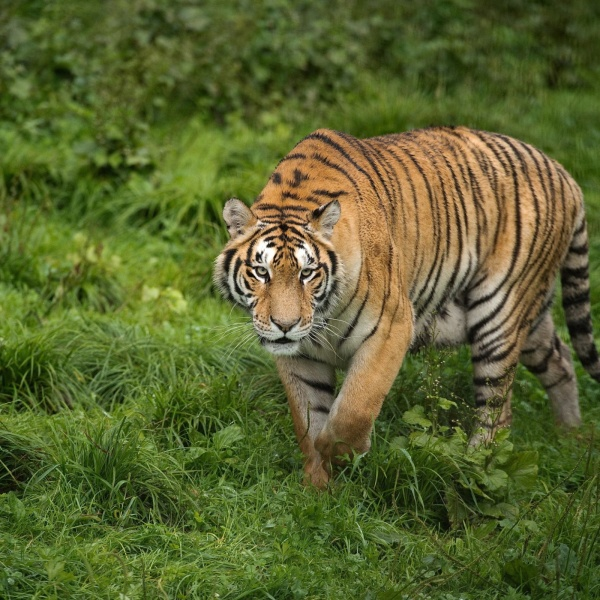Tiger: (203, 126, 597, 494)
